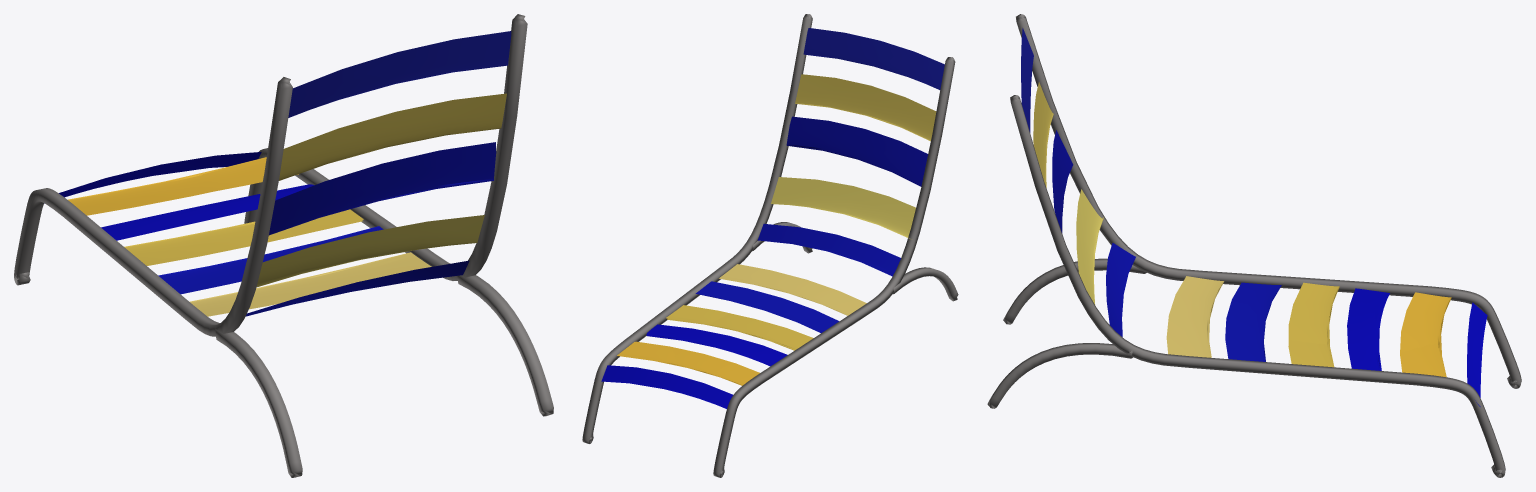
The model's file is berkeley_chair.obj.
3 renders of one model, left to right at view 1: azimuth 30°, elevation 25°; view 2: azimuth 150°, elevation 25°; view 3: azimuth 270°, elevation 25°, orthographic. The views are drawn at different scales.
Visible parts, largest first — view 1: s.0074, n.0091, n.0088, n.0102, s.0076, n.0087, n.0084, n.0082, n.0094, n.0080, s.0075, s.0073 (+5 smaller); view 2: s.0074, s.0076, n.0091, n.0088, n.0087, n.0102, n.0090, n.0084, n.0092, n.0095, n.0094, n.0082 (+4 smaller); view 3: s.0076, s.0074, n.0084, n.0092, n.0094, n.0082, n.0080, s.0075, n.0087, n.0090, n.0095, s.0073 (+5 smaller).
Boxes of the visible parts, x1=… form: s.0074: x1=14, y1=77, x2=292, y2=336; n.0091: x1=269, y1=142, x2=496, y2=235; n.0088: x1=279, y1=93, x2=506, y2=180; n.0102: x1=288, y1=31, x2=511, y2=117; s.0076: x1=244, y1=14, x2=527, y2=280; n.0087: x1=256, y1=215, x2=484, y2=287; n.0084: x1=189, y1=252, x2=431, y2=316; n.0082: x1=124, y1=220, x2=362, y2=262; n.0094: x1=101, y1=184, x2=313, y2=240; n.0080: x1=68, y1=174, x2=298, y2=213; s.0075: x1=457, y1=275, x2=553, y2=416; s.0073: x1=215, y1=329, x2=302, y2=477; s.0074: x1=713, y1=57, x2=955, y2=477; s.0076: x1=582, y1=14, x2=812, y2=443; n.0091: x1=786, y1=116, x2=927, y2=186; n.0088: x1=795, y1=74, x2=936, y2=141; n.0087: x1=771, y1=177, x2=915, y2=238; n.0102: x1=803, y1=28, x2=944, y2=89; n.0090: x1=758, y1=223, x2=900, y2=276; n.0084: x1=719, y1=264, x2=866, y2=315; n.0092: x1=695, y1=281, x2=839, y2=332; n.0095: x1=601, y1=365, x2=732, y2=408; n.0094: x1=646, y1=324, x2=787, y2=366; n.0082: x1=667, y1=313, x2=813, y2=349; s.0076: x1=1010, y1=95, x2=1505, y2=477; s.0074: x1=1016, y1=14, x2=1521, y2=388; n.0084: x1=1166, y1=276, x2=1224, y2=357; n.0092: x1=1225, y1=282, x2=1281, y2=361; n.0094: x1=1347, y1=288, x2=1389, y2=370; n.0082: x1=1289, y1=282, x2=1339, y2=366; n.0080: x1=1400, y1=292, x2=1451, y2=372; s.0075: x1=987, y1=343, x2=1132, y2=408; n.0087: x1=1076, y1=189, x2=1103, y2=304; n.0090: x1=1106, y1=243, x2=1135, y2=336; n.0095: x1=1467, y1=302, x2=1487, y2=406; s.0073: x1=1003, y1=258, x2=1146, y2=324.
Bounding box in the file's own units: 0.626 × 0.9875 × 1.31.
